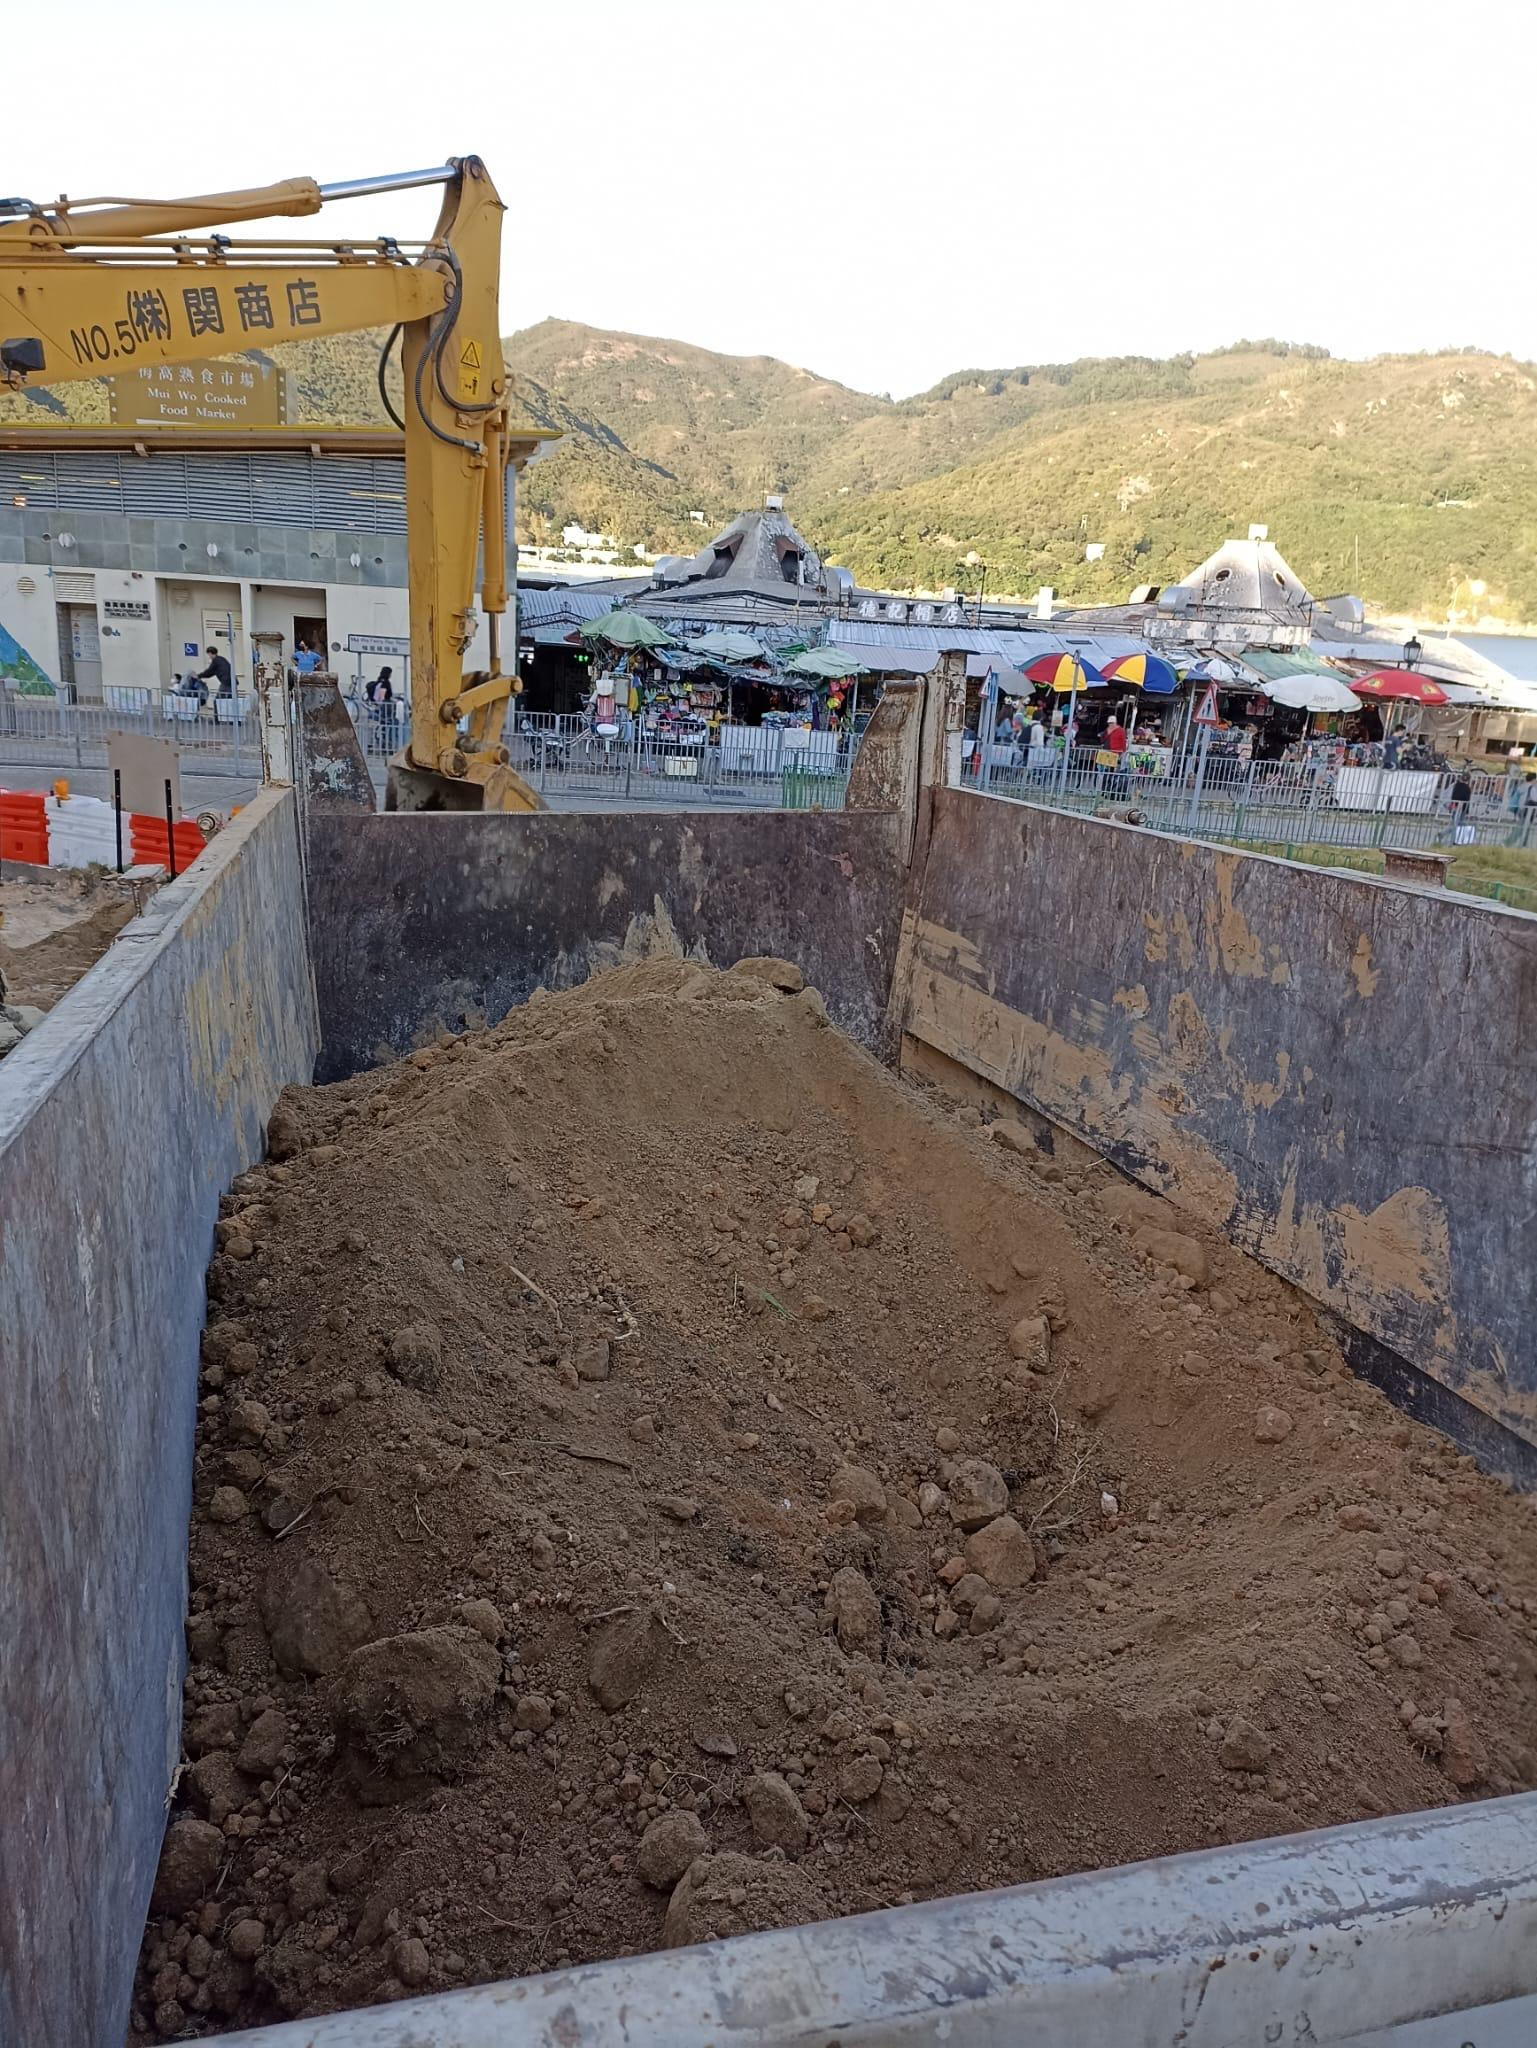dry: (137, 957, 1531, 2048)
